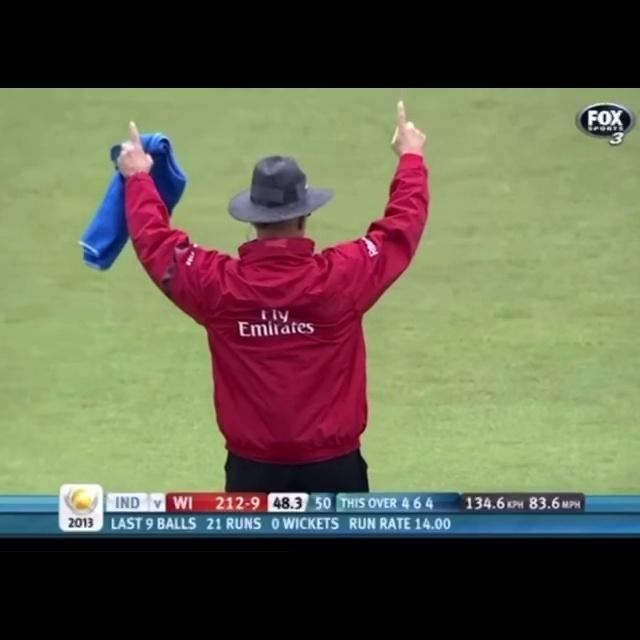umpire: (95, 95, 514, 441)
